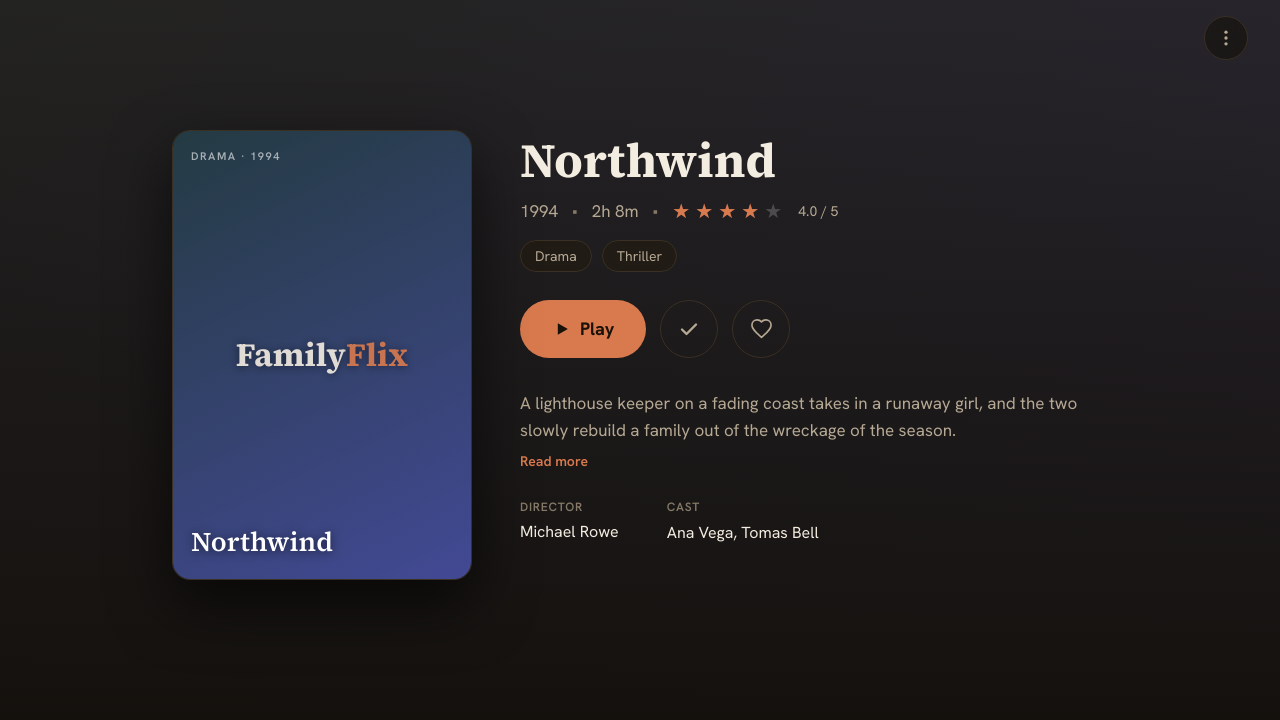
Test case: MovieDetail — the rating picker › clears a rating to null rather than to zero when its own segment is clicked
Click the button named "Clear rating".
click(756, 211)  # box 751,201 -> 761,221
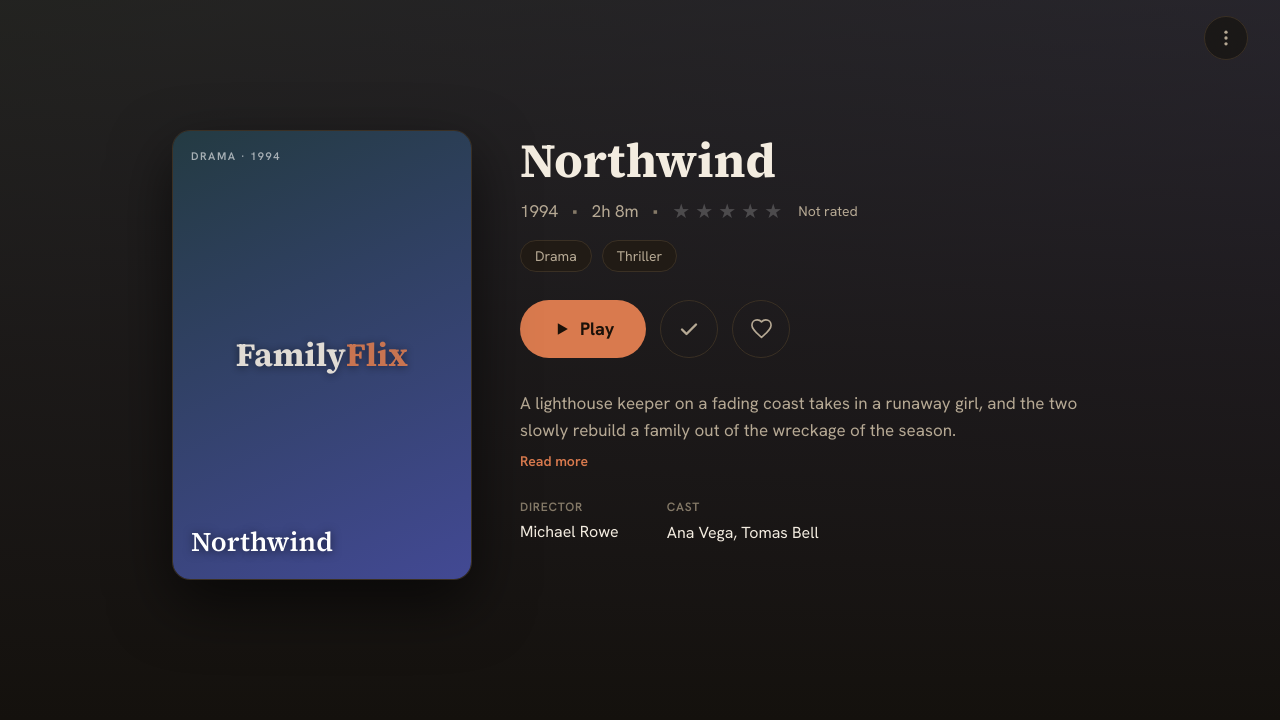
Result: the text "Not rated" is shown at 798,202 -> 858,220
